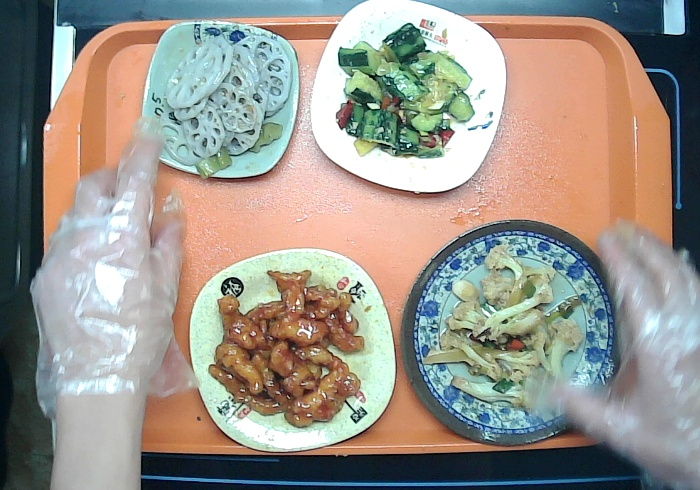NLDX-Bai_Se_Xiao_Fang_Die: (308, 1, 508, 193)
NLDX-Fu_Zi_Fang_Die: (187, 242, 398, 454)
NLDX-Qing_Hua_Xiao_Fang_Die: (136, 15, 301, 183)
NLDX-Qing_Hua_Yuan_Die: (401, 212, 628, 447)
